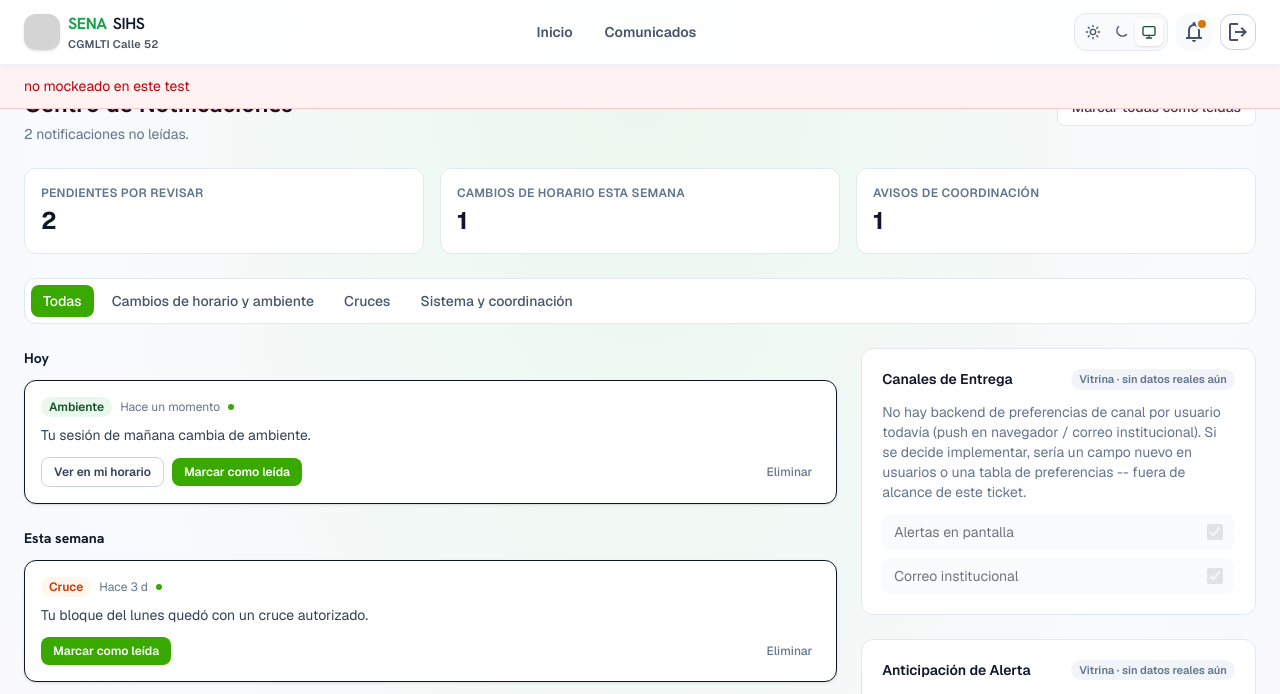
Test: Notificaciones › marca una notificación individual como leída
expect the text "Tu sesión de mañana cambia de ambiente." is shown: met, box [41,426,311,444]
Click the button "Marcar como leída" next to "Ver en mi horario": {"x": 237, "y": 472} [172,458,302,486]
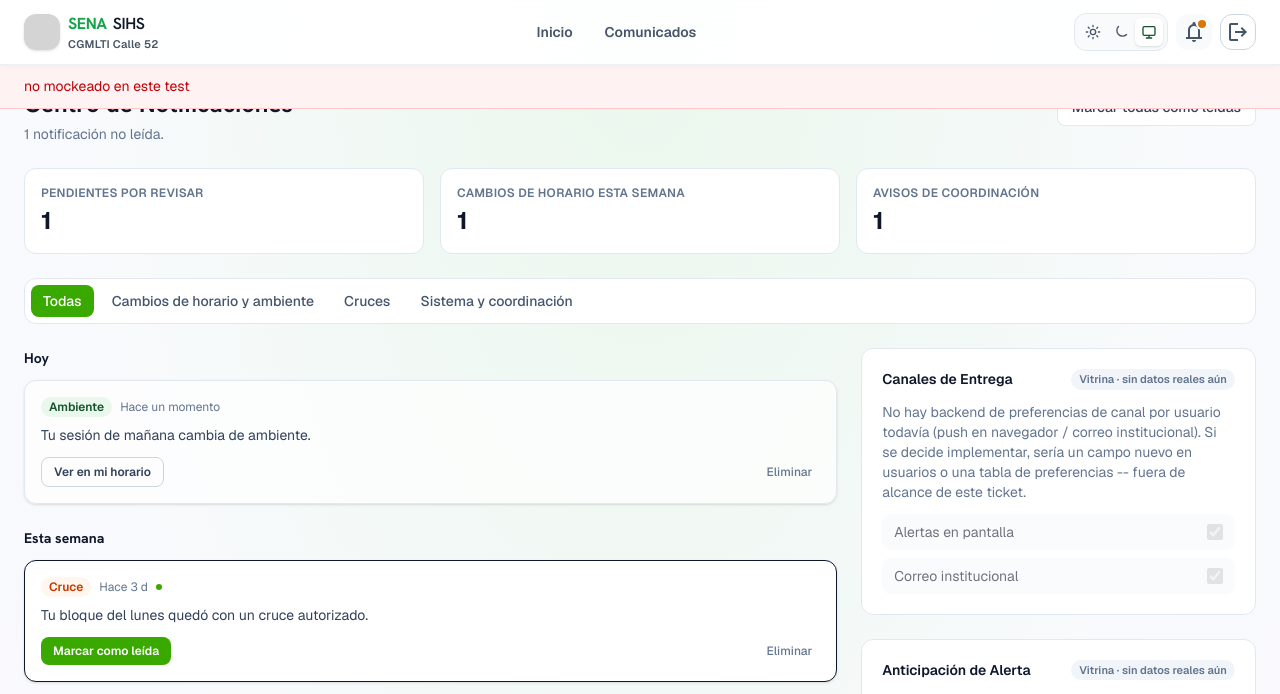
expect the text "1 notificación no leída." is shown: met, box [24,125,164,143]
